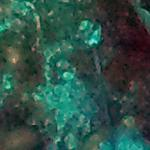dead: (2, 1, 149, 149)
